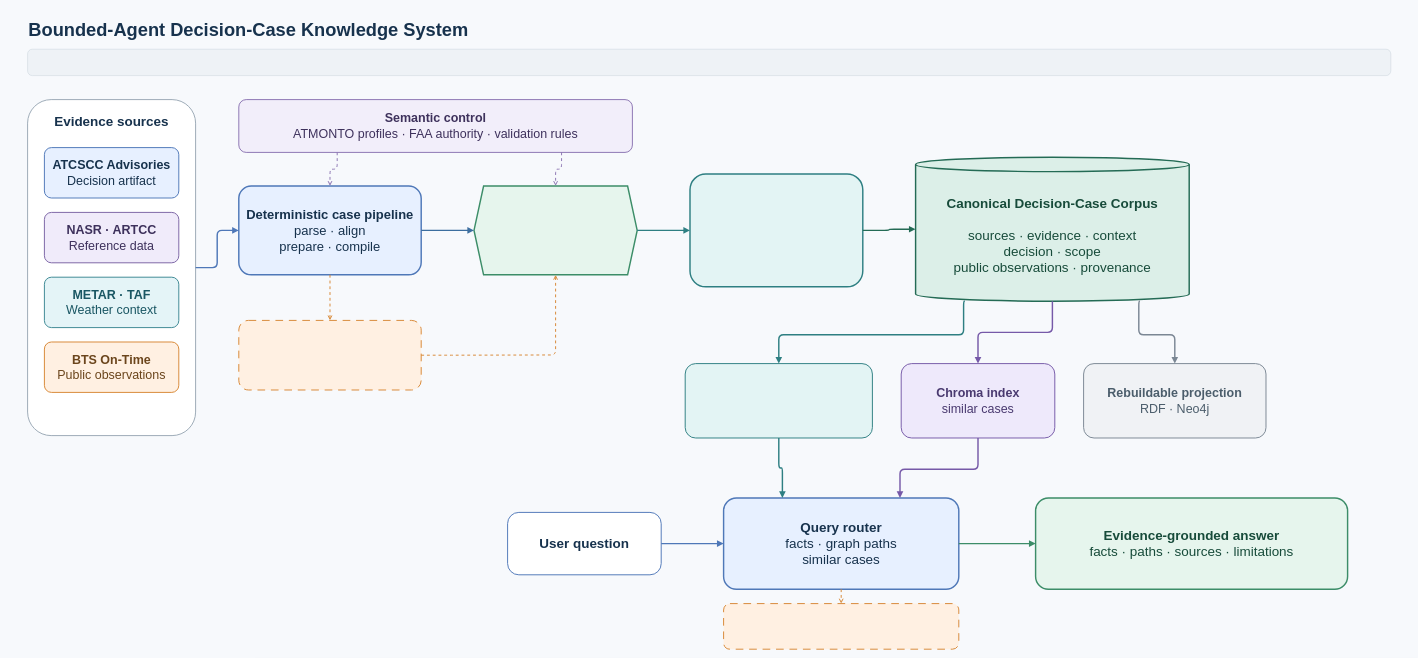
The diagram is 1418 pixels wide and 658 high, and some of its shapes have lost their labels. The shapes that lost their labels are listed below. From the top down, each one's centre as x and y in pixels, then its label:
the point at 709,62: Retrospective FAA cases • Corpus-first • No causal or recommendation claims
the point at 555,230: Formal Graph Kernel validate · publish
the point at 776,230: DecisionCase core conceptual case reconstruction formal membership
the point at 329,355: Bounded agents ambiguity · schema choice only when needed
the point at 778,400: Case graph view exact facts · closed paths
the point at 841,626: Analysis Agent · registered questions only
